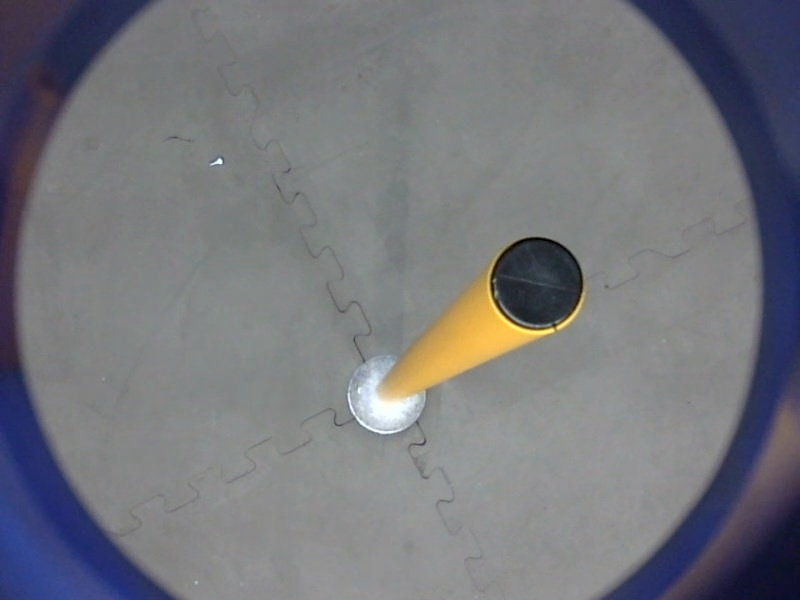tip: (480, 228, 591, 342)
